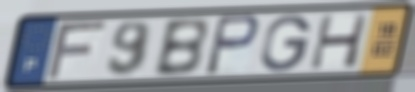9: (105, 19, 151, 79)
B: (150, 16, 210, 79)
F: (43, 19, 111, 83)
G: (259, 13, 314, 74)
H: (307, 11, 372, 71)
P: (202, 13, 262, 78)
